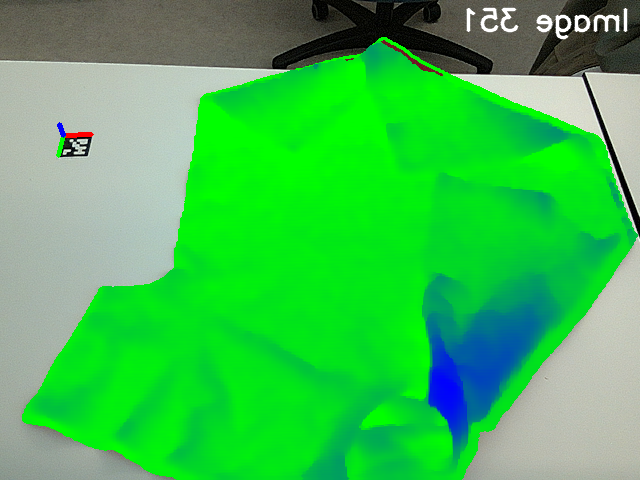V: (266, 111, 325, 160), (433, 167, 481, 216), (388, 135, 432, 181)
